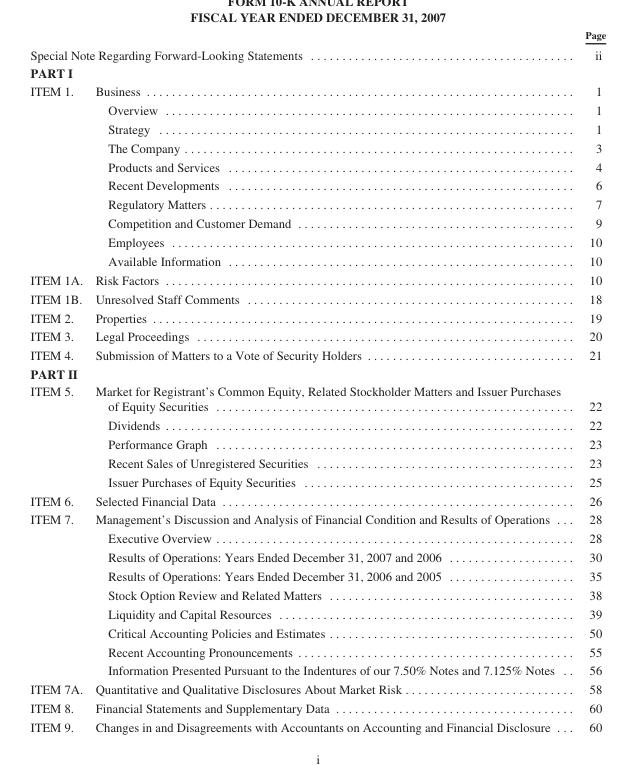table: (29, 28, 605, 733)
table column: (88, 28, 572, 733), (29, 28, 88, 733), (572, 28, 605, 733)
table column header: (29, 28, 605, 63)
table projected row header: (29, 63, 605, 81), (29, 364, 605, 382)
table row: (29, 28, 605, 63), (29, 382, 605, 415), (29, 81, 605, 100), (29, 100, 605, 119), (29, 137, 605, 156), (29, 156, 605, 175), (29, 175, 605, 194), (29, 194, 605, 213), (29, 213, 605, 232), (29, 232, 605, 251), (29, 251, 605, 270), (29, 288, 605, 307), (29, 307, 605, 326), (29, 326, 605, 345), (29, 345, 605, 364), (29, 415, 605, 434), (29, 434, 605, 453), (29, 471, 605, 490), (29, 490, 605, 509), (29, 509, 605, 528), (29, 528, 605, 547), (29, 547, 605, 566), (29, 566, 605, 585), (29, 585, 605, 604), (29, 604, 605, 623), (29, 641, 605, 660), (29, 660, 605, 679), (29, 679, 605, 698), (29, 698, 605, 717), (29, 63, 605, 81), (29, 119, 605, 137), (29, 270, 605, 288), (29, 364, 605, 382), (29, 453, 605, 471), (29, 623, 605, 641), (29, 717, 605, 733)
table spanning cell: (29, 28, 572, 63), (29, 81, 88, 270), (29, 509, 88, 679), (29, 382, 88, 490)
